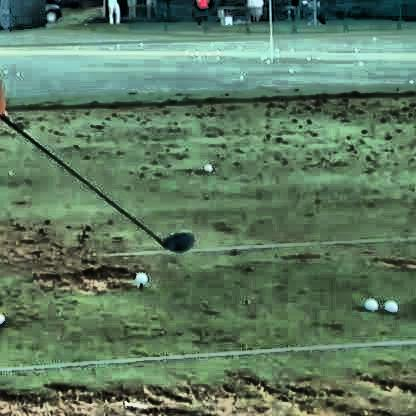golfball: (132, 271, 143, 281)
